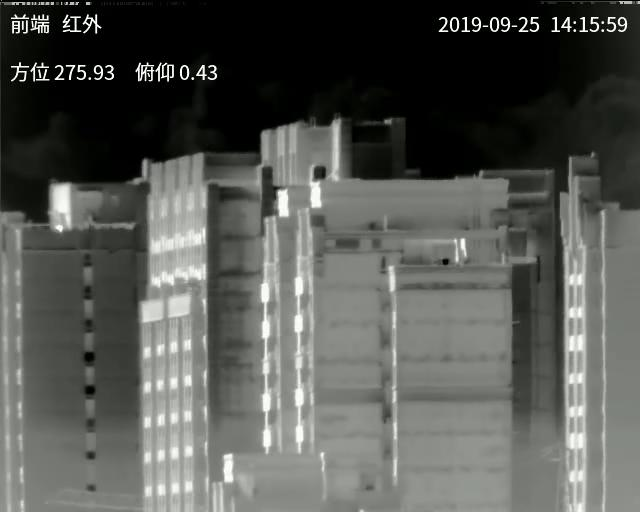uav: (180, 276, 207, 298)
